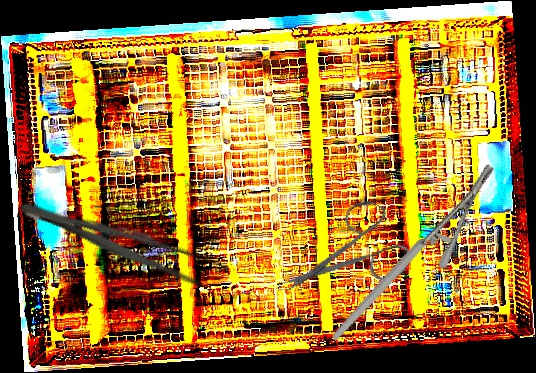Dressing Forceps: (14, 190, 231, 296)
Iris Scissors: (278, 181, 427, 334)
Needle Holder: (294, 162, 531, 341)
